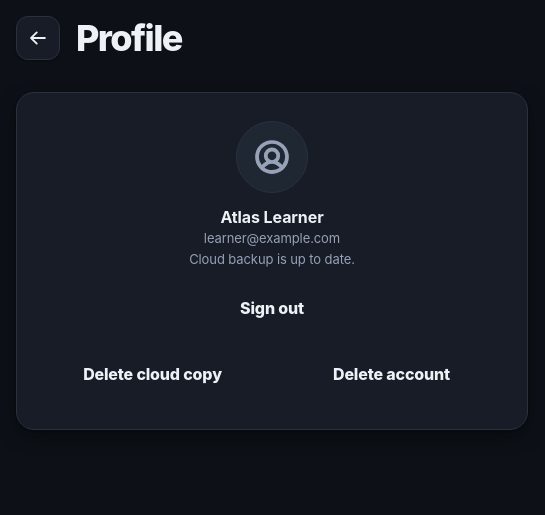
Test: Profile cloud account states › moves focus to the safe action when destructive confirmation opens
Click the button "Delete account" at (392, 375), box [276,349,507,401]
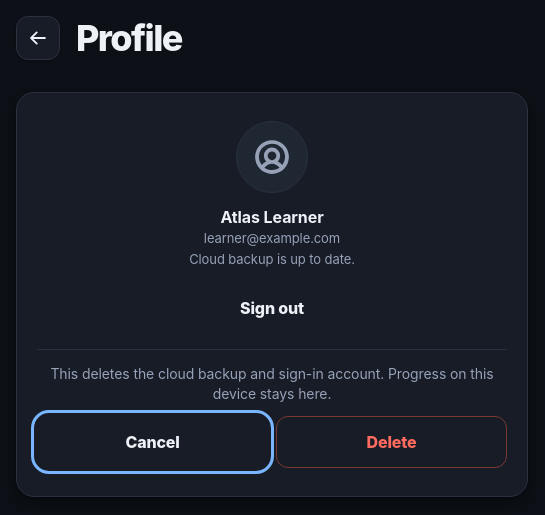
Check: the element named "Confirm account deletion" is shown, box [37,349,507,468]
